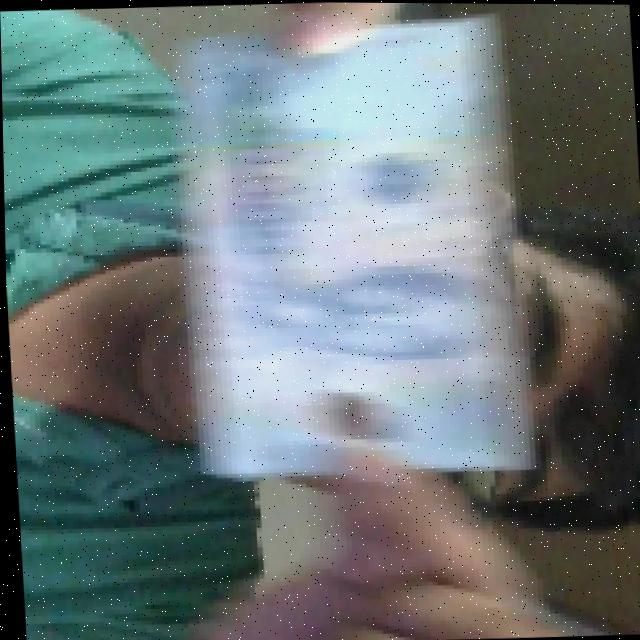20 000 VND: (163, 2, 543, 488)
